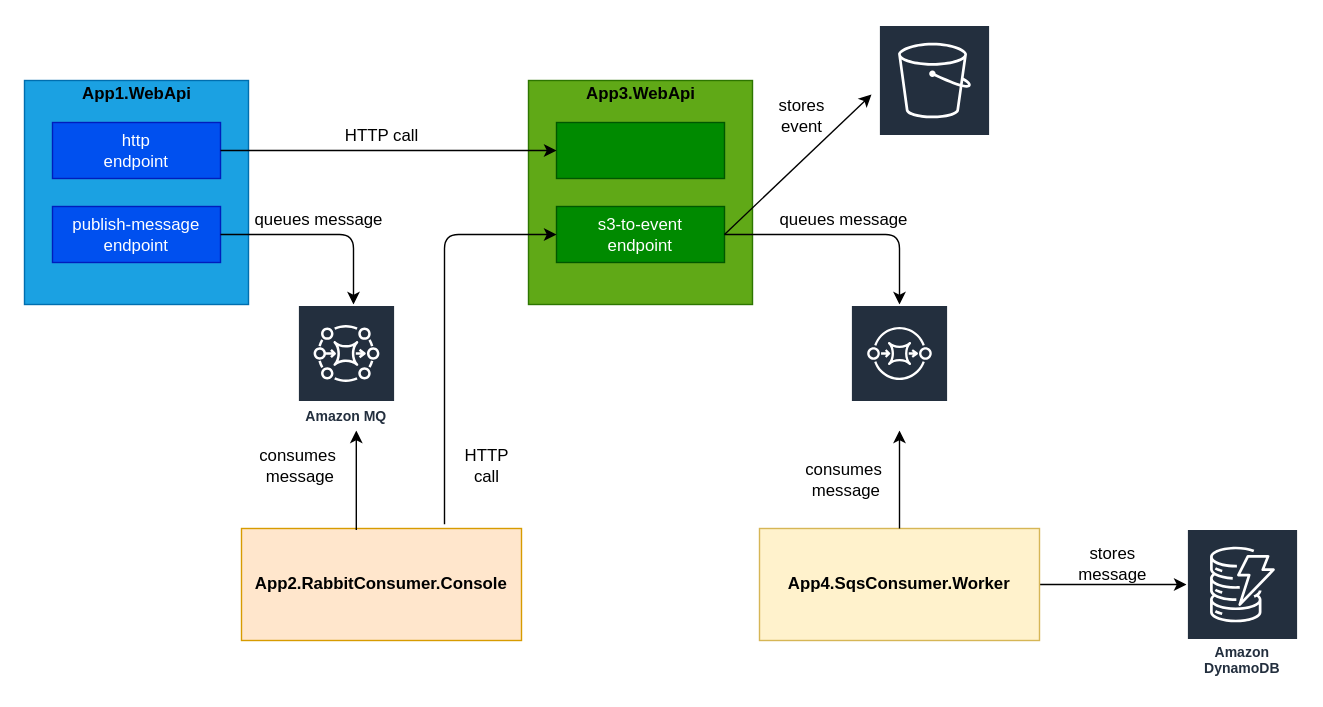
The diagram is 1323 pixels wide and 707 high, and some of its shapes have lost their labels. Each missing label, with the centre of its shape:
Amazon S3: the point at 933,93
Amazon SQS: the point at 898,366
dummy endpoint: the point at 639,149
